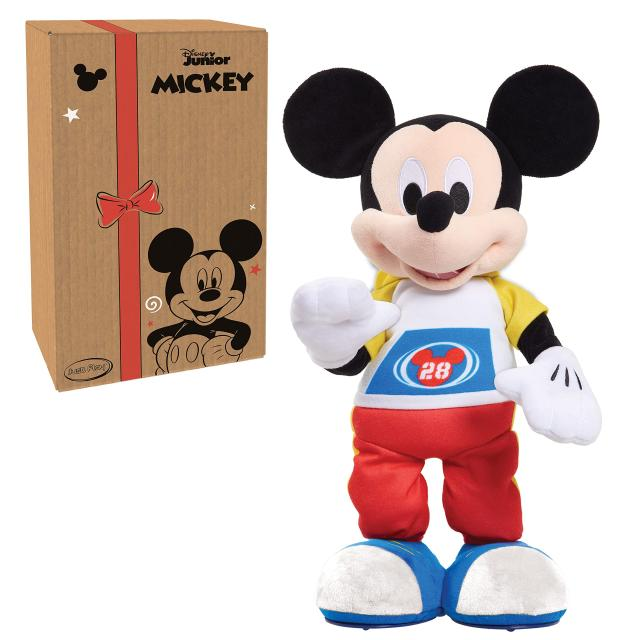mickey: (284, 66, 601, 629), (148, 220, 262, 373), (74, 64, 106, 91)
